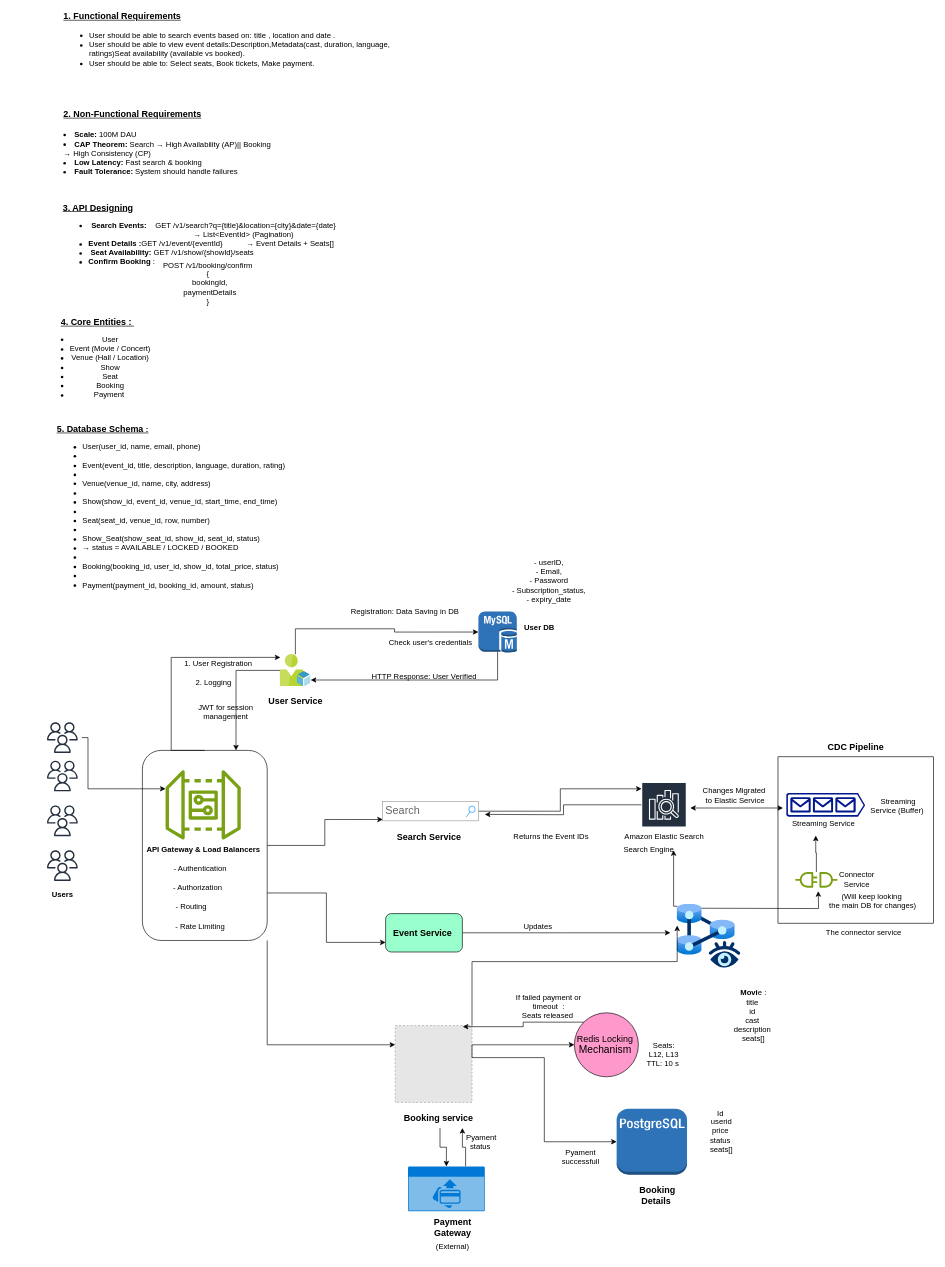
The diagram is 945 pixels wide and 1267 high, and some of its shapes have lost their labels. Grey dashed boxes stand in for pictures. The box of each missing label's shape, as (x1, y1, x2, y2) in pixels:
Meta data DB Event : ID seats[] venue description: (676, 904, 740, 968)
Payment: (408, 1166, 484, 1211)
